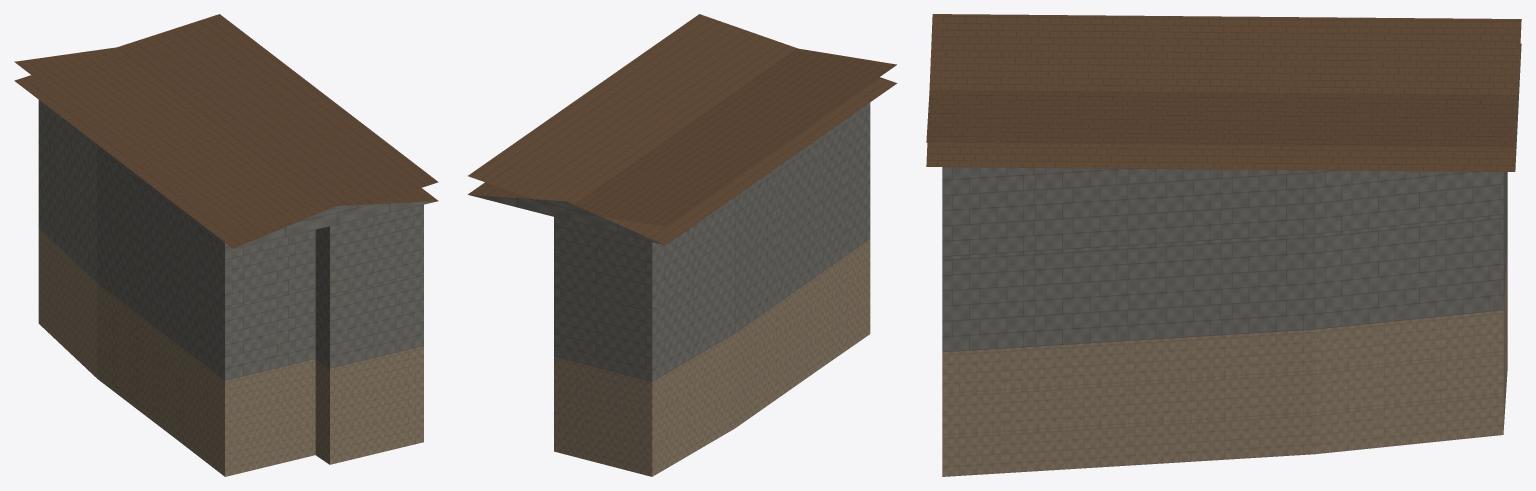
The model's file is bld_c33_47_241.gltf.
The picture shows the model from 3 angles, left to right: view 1: azimuth 30°, elevation 25°; view 2: azimuth 150°, elevation 25°; view 3: azimuth 270°, elevation 25°; orthographic projection. The views are drawn at different scales.
Visible parts, largest first — view 1: bld_c33_47_241; view 2: bld_c33_47_241; view 3: bld_c33_47_241.
Part boxes in pixels (x1,y1,x2,y2): bld_c33_47_241: (14, 14, 438, 476); bld_c33_47_241: (468, 14, 897, 476); bld_c33_47_241: (926, 14, 1521, 476).
Size of the model in its own units: 11.72 by 13.9 by 22.05.
4 materials, 4 textured.
